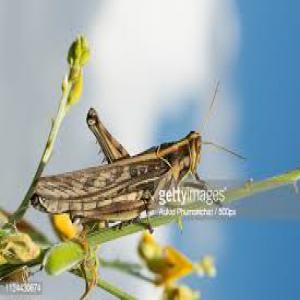locust: (24, 78, 227, 260)
